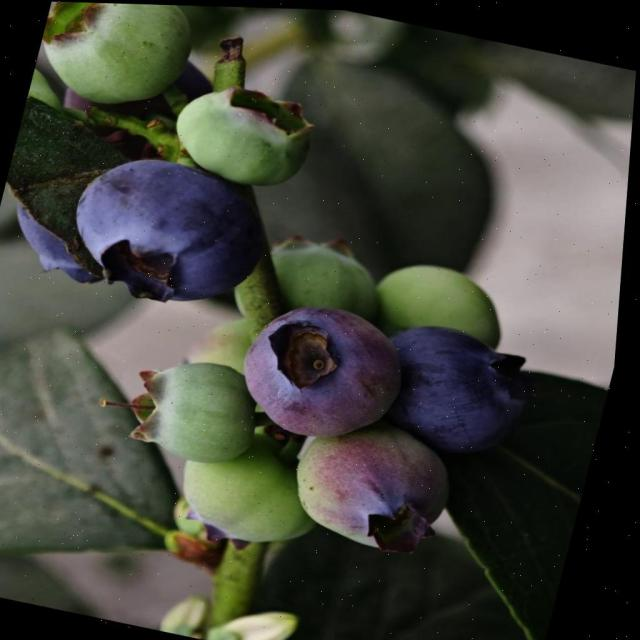RipeBlueBerry: (294, 417, 465, 587)
Semi-RipeBlueBerry: (220, 282, 423, 462)
UnripeBlueBerry: (67, 149, 281, 327), (99, 337, 275, 475), (38, 1, 196, 108), (183, 89, 321, 183)
